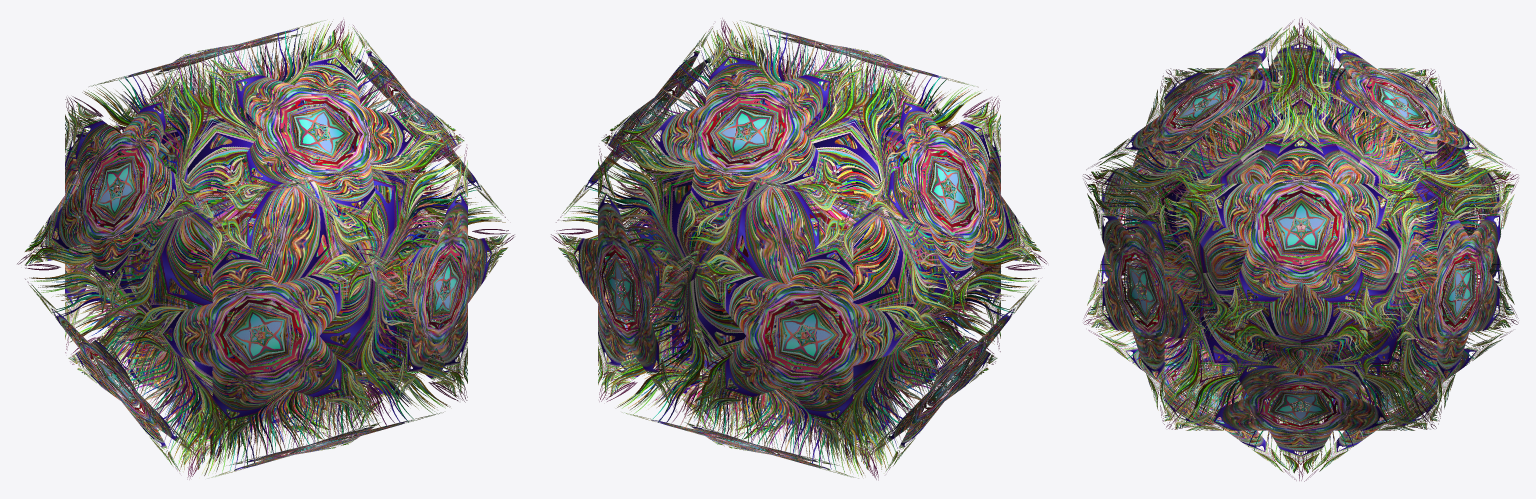
File: DitrigonalDodecadodecahedron13.gltf
The picture shows the model from 3 angles, left to right: view 1: azimuth 30°, elevation 25°; view 2: azimuth 150°, elevation 25°; view 3: azimuth 270°, elevation 25°; orthographic projection. The views are drawn at different scales.
Parts seen in each view (by area): view 1: DitrigonalDodecadodecahedron13; view 2: DitrigonalDodecadodecahedron13; view 3: DitrigonalDodecadodecahedron13.
Part boxes in pixels (x1,y1,x2,y2): DitrigonalDodecadodecahedron13: [17, 19, 514, 479]; DitrigonalDodecadodecahedron13: [551, 18, 1047, 480]; DitrigonalDodecadodecahedron13: [1083, 17, 1518, 481].
Size of the model in its own units: 1.62 by 1.62 by 1.62.
Materials: 1 (1 with a texture image).
